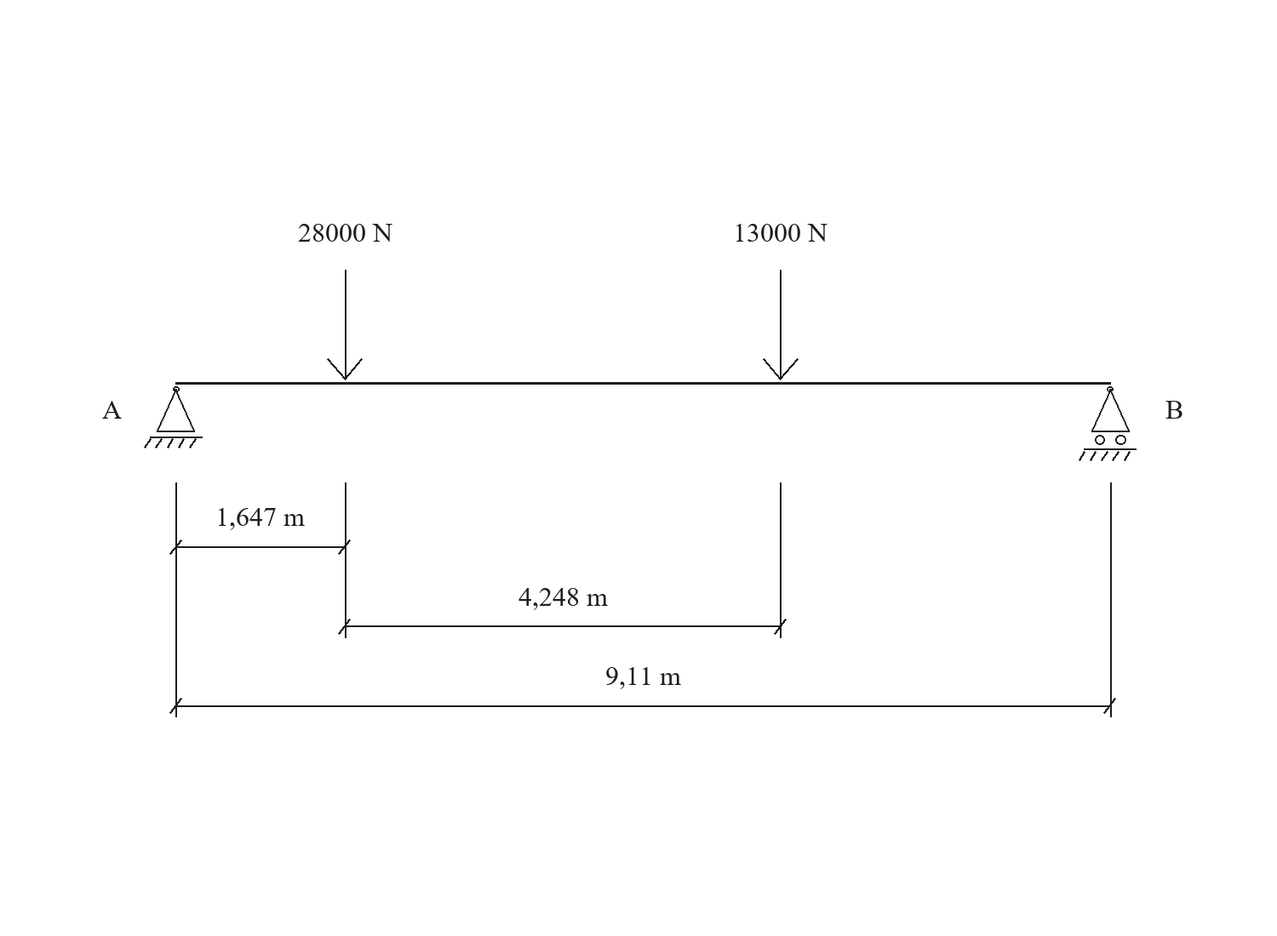pin_support: (144, 386, 203, 448)
point_load: (327, 270, 363, 380), (763, 270, 799, 380)
roller_support: (1079, 386, 1137, 461)
